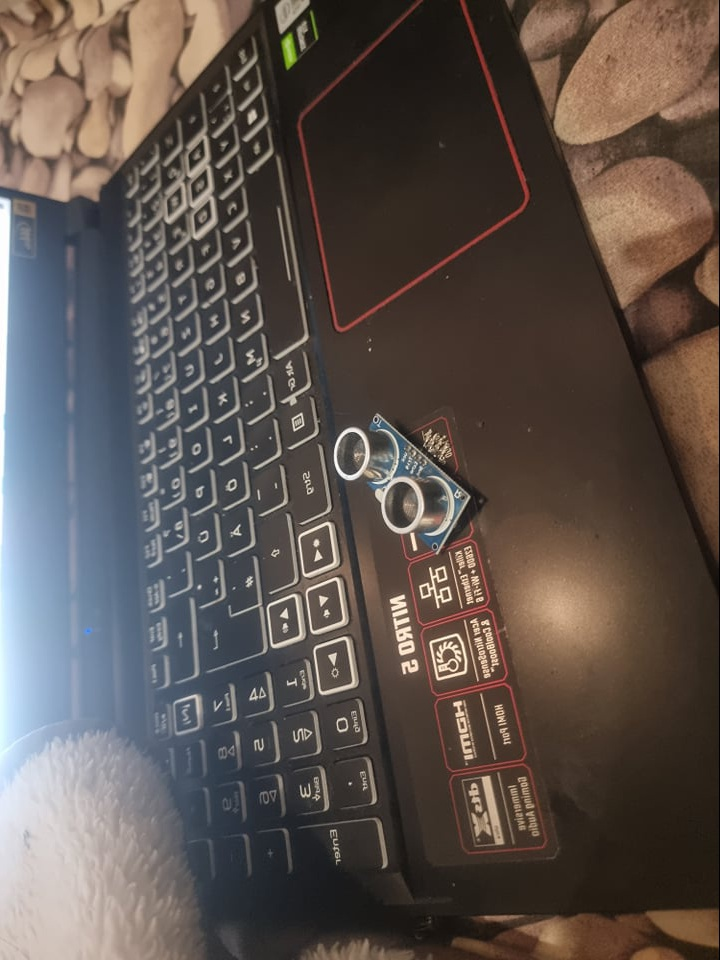SENSOR: (332, 412, 474, 554)
